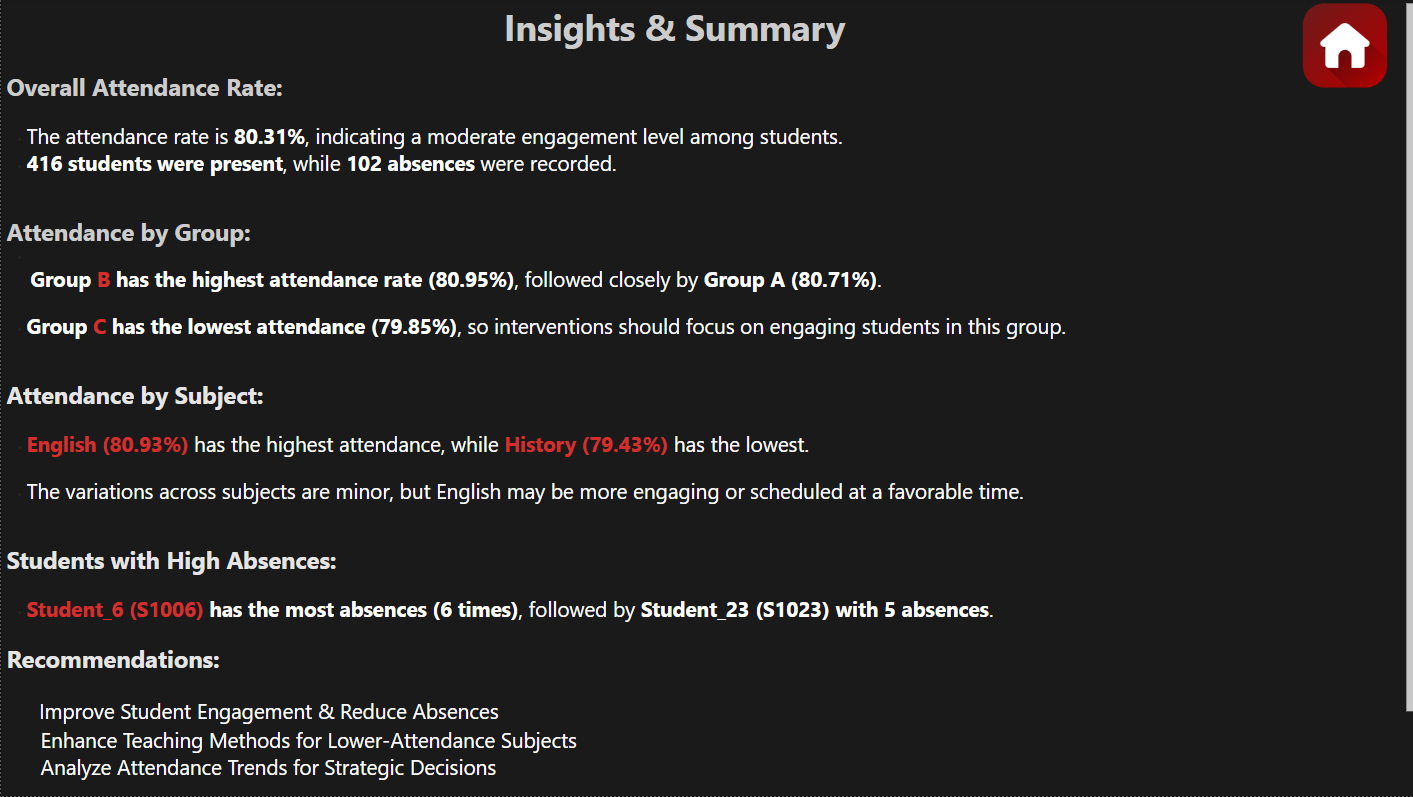

This screenshot's page, from the dashboard's own definition file:
{"tool":"powerbi","page":{"name":"Summary","canvas":[1280,720],"ordinal":2},"visuals":[{"type":"textbox","box":[0,0,1280.2,719.8],"z":0},{"type":"image","box":[1153.5,0,117.4,86],"z":1000}]}

Visuals, with their boxes in screenshot pixels (x1, y1, x2, y2), scaled from the page's 1280x720 canvas onto the 1413x797 screenshot:
textbox: <region>0, 0, 1412, 796</region>
image: <region>1273, 0, 1403, 95</region>
